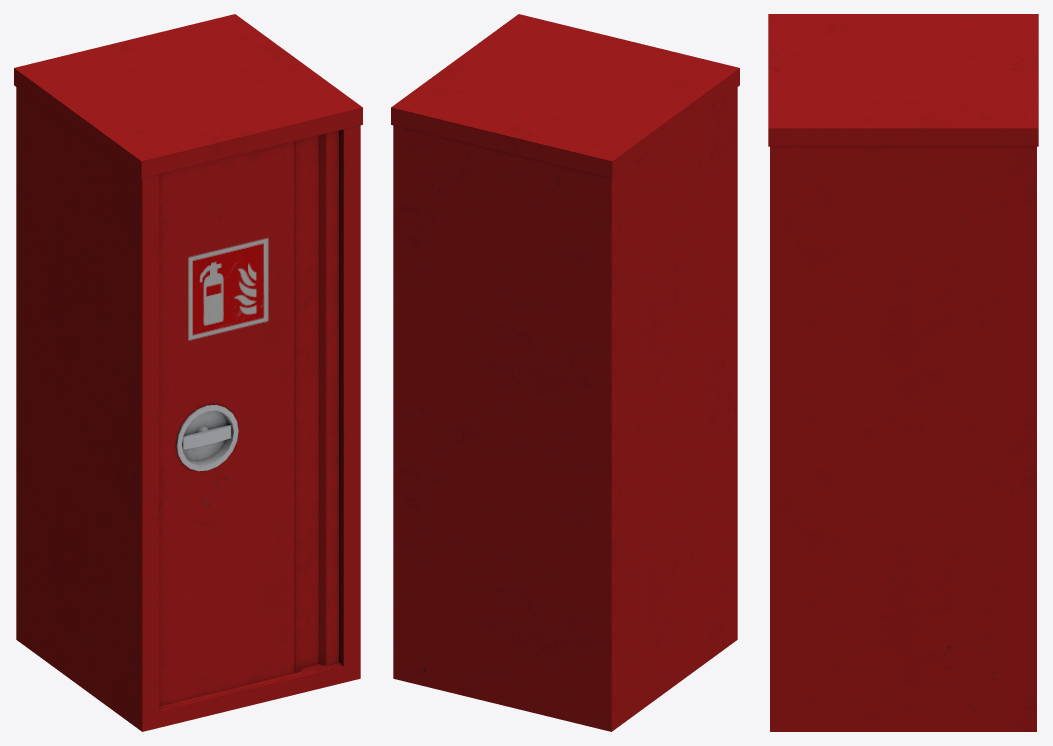
File: FireExtinguisherCabinet.fbx
The picture shows the model from 3 angles, left to right: view 1: azimuth 30°, elevation 25°; view 2: azimuth 150°, elevation 25°; view 3: azimuth 270°, elevation 25°; orthographic projection. The views are drawn at different scales.
Parts seen in each view (by area): view 1: FireExtinguisherCabinet; view 2: FireExtinguisherCabinet; view 3: FireExtinguisherCabinet.
Part boxes in pixels (left/top/right/bottom): FireExtinguisherCabinet: left=14, top=14, right=362, bottom=731; FireExtinguisherCabinet: left=391, top=14, right=739, bottom=731; FireExtinguisherCabinet: left=768, top=14, right=1038, bottom=731.
Size of the model in its own units: 30.38 by 75 by 30.38.
1 material, 1 textured.
